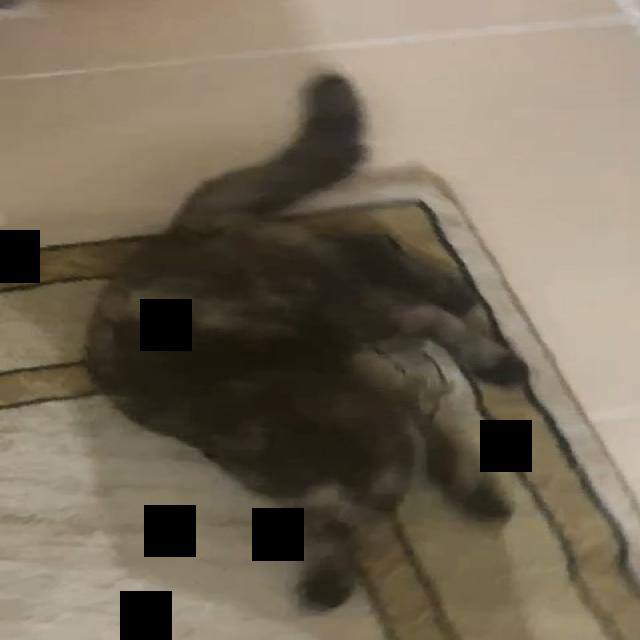authorized: (75, 70, 636, 638)
